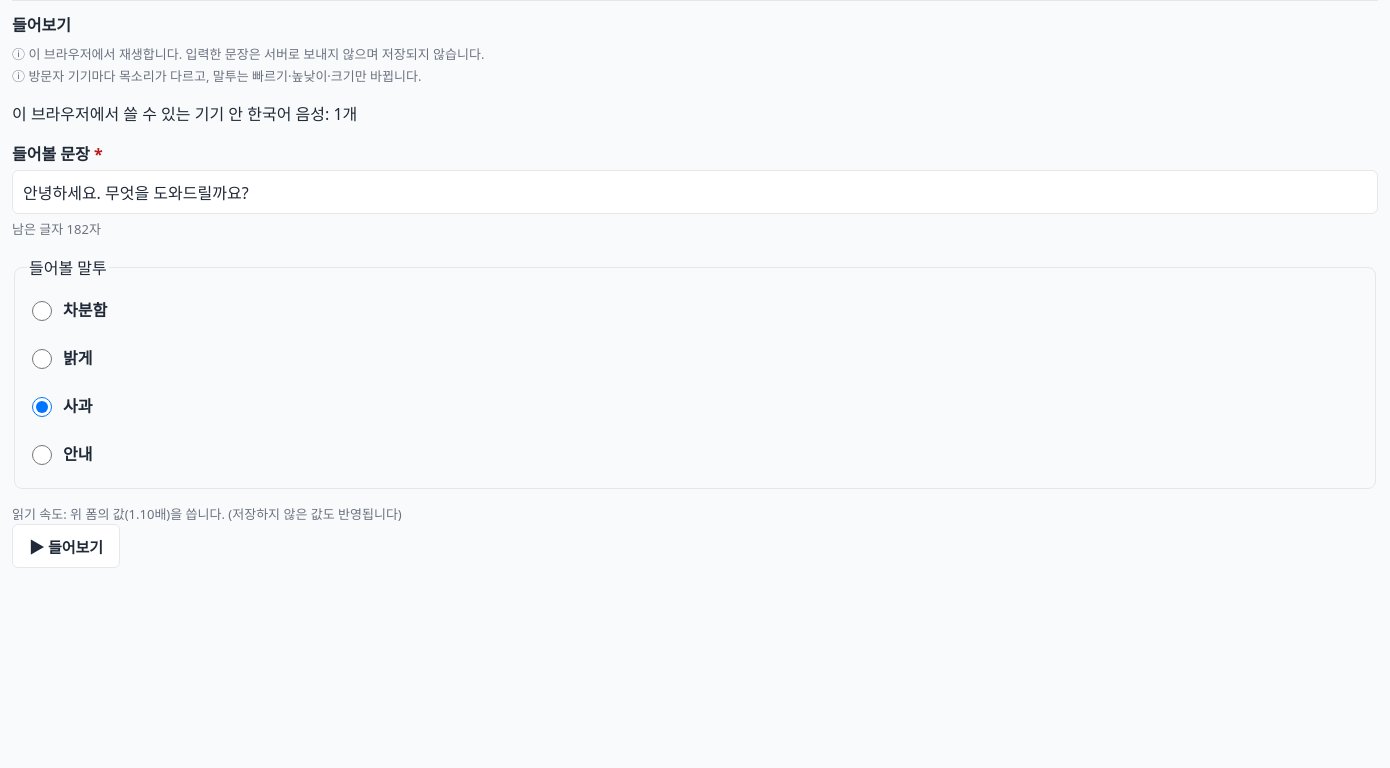
it: 재생 › 고른 말투·폼의 읽기 속도로 문장 단위 재생 · 눌러야만 소리가 난다(자동 재생 0)
Replace the text in the field labelled "들어볼 문장 *" with "첫째입니다. 둘째입니다." at (695, 192), box [12,170,1378,214]
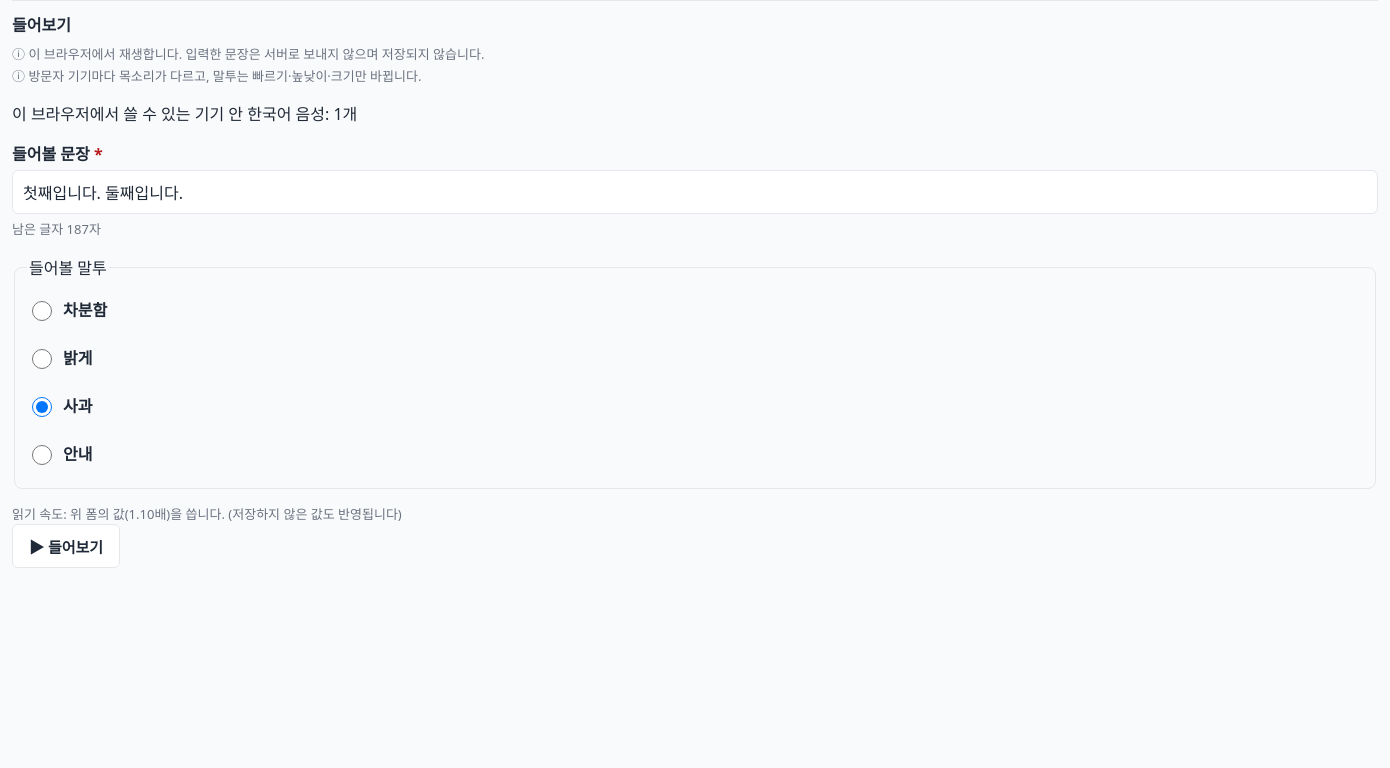
Click the button "▶ 들어보기" at (66, 546), box [12,524,120,568]
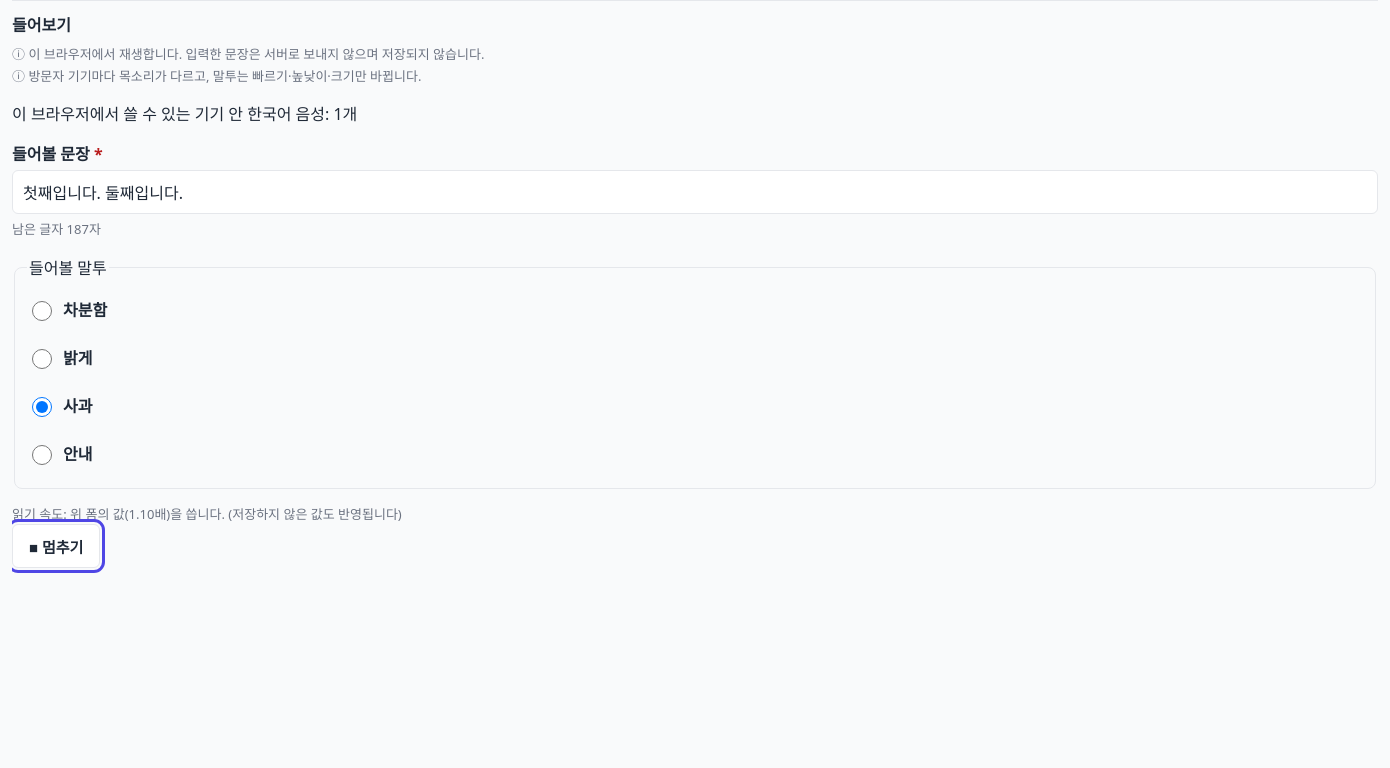
Now the button "■ 멈추기" is shown, box [12,524,100,568]
